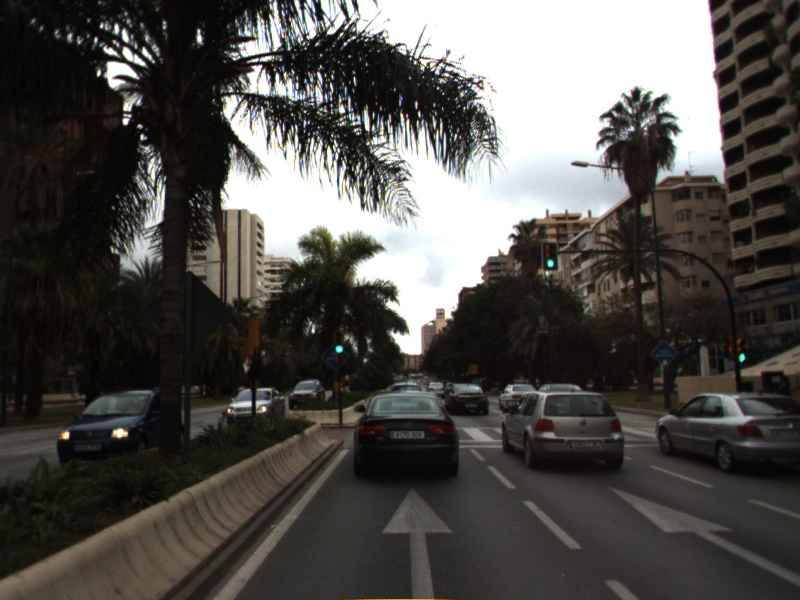STRAIGHT: (603, 483, 800, 585), (378, 483, 456, 600)
